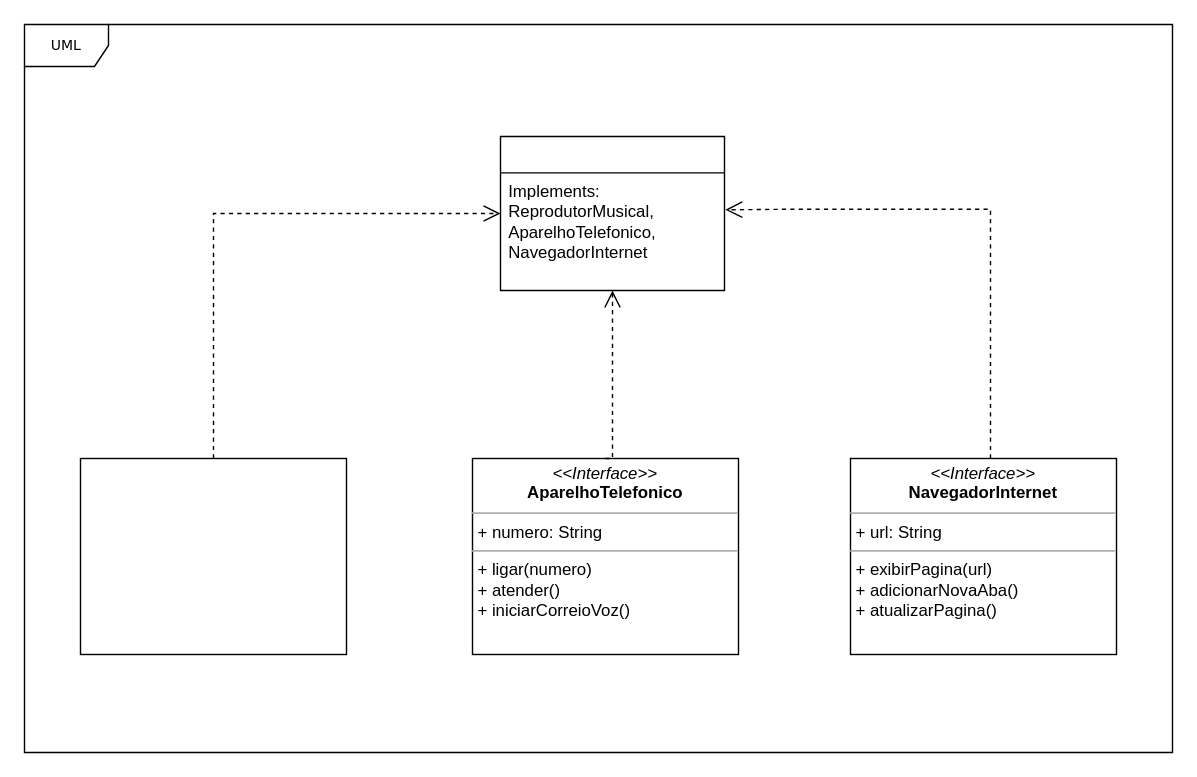
The diagram is 1197 pixels wide and 777 high, and some of its shapes have lost their labels. Here are the shapes that lost their labels. From the top down, the box of each, then its label:
(499, 135, 724, 290): iPhone
(79, 457, 346, 654): <<Interface>> ReprodutorMusical + tocar() + pausar() + selecionarMusica()
